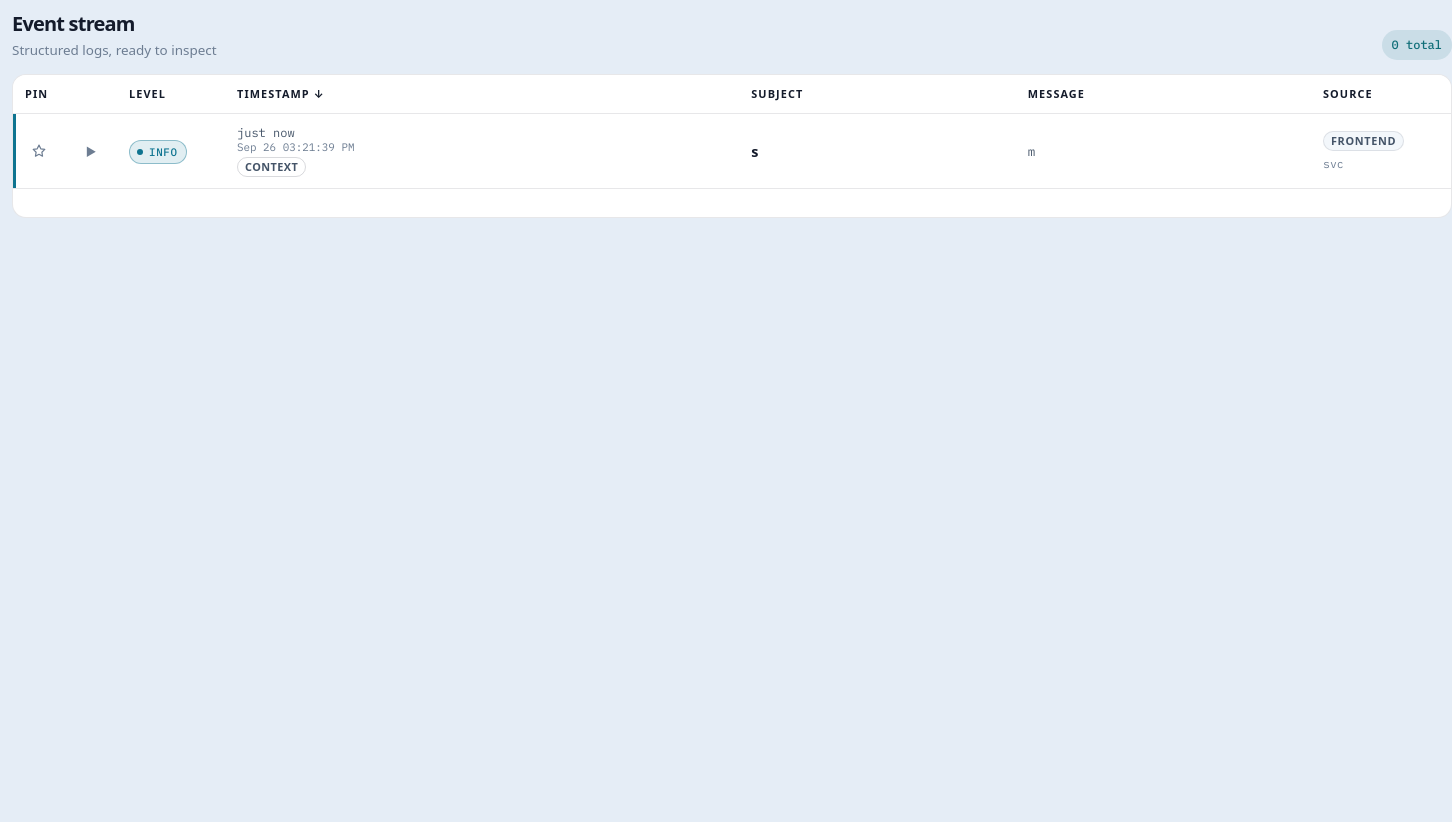
Scenario: LogTable caching › does not refetch details if already cached
The image size is (1452, 822).
Click the button "▶": (91, 151) [77,137,105,165]
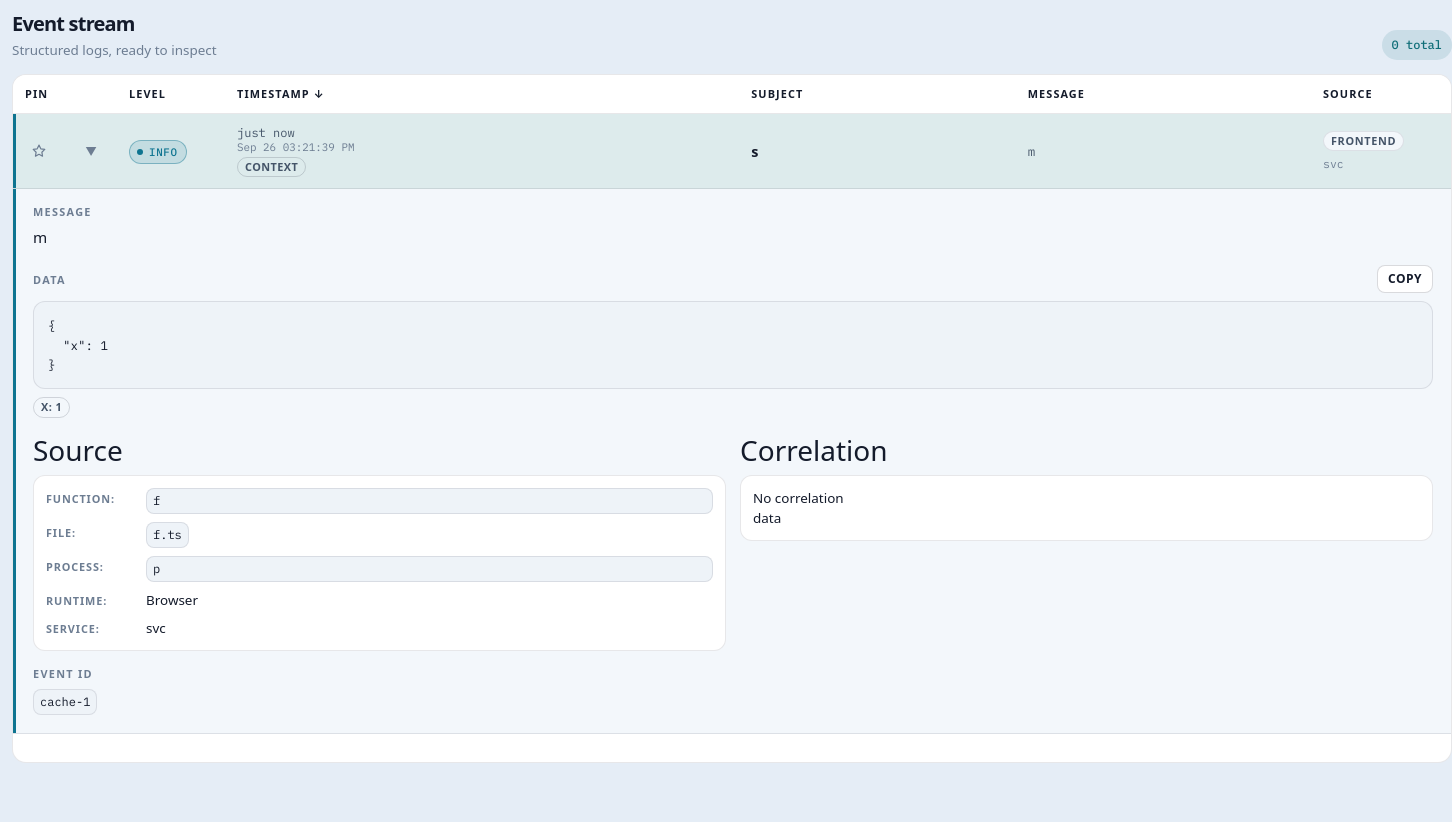
Expected: the text "Function:" is shown, [46,491,115,506]
Click the button "▼": (91, 151) [77,137,105,165]
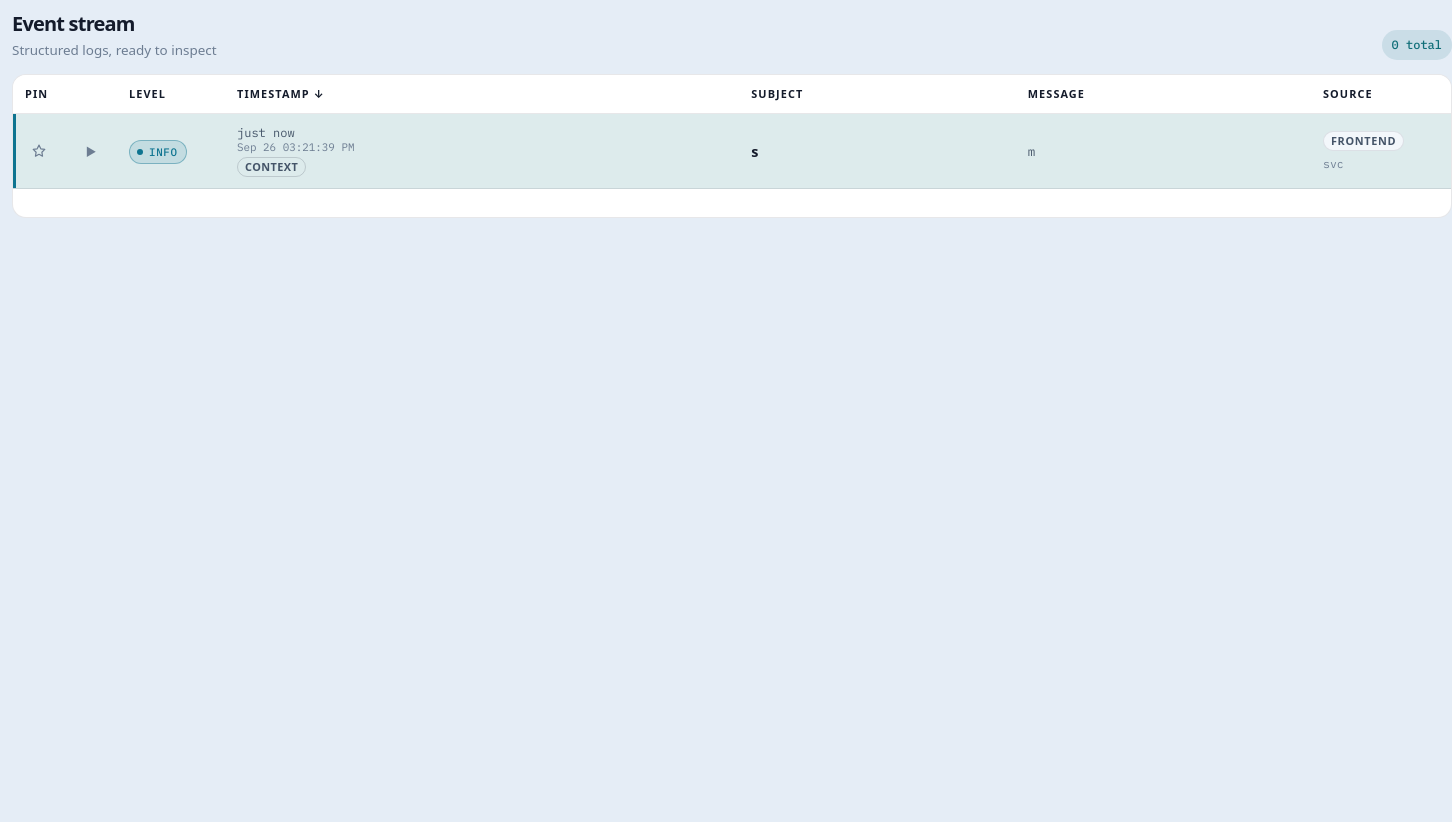
Note: Expand again
Click the button "▶": (91, 151) [77,137,105,165]
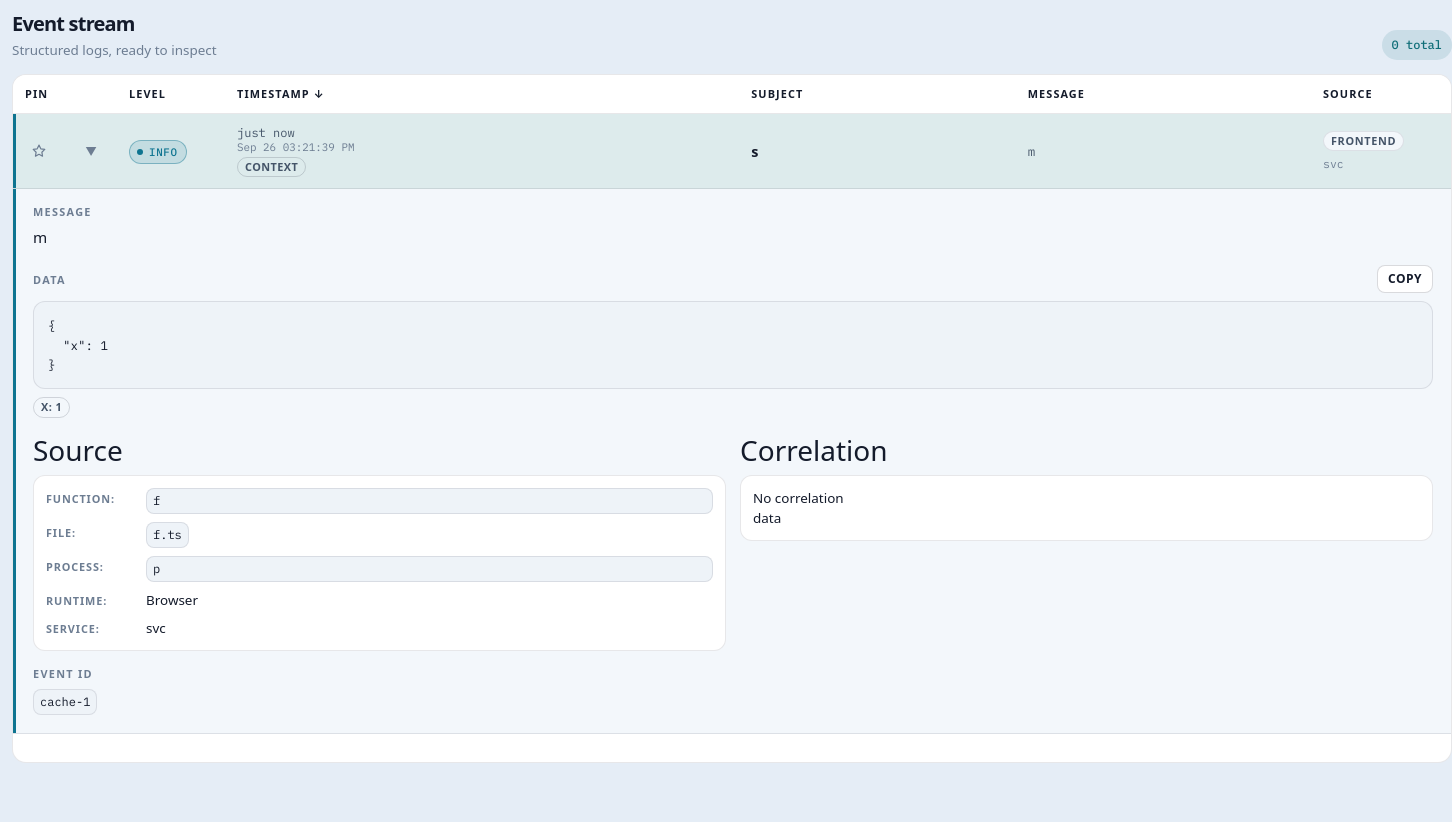
Expected: the text "Function:" is shown, [46,491,115,506]
